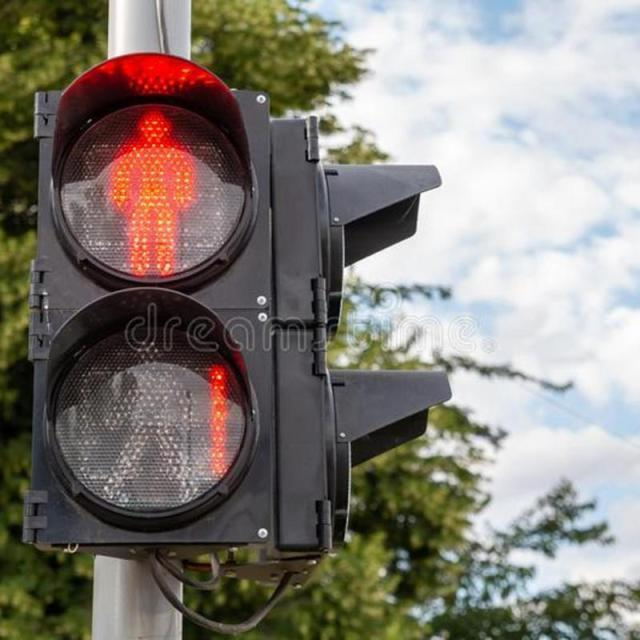red-crossing: (48, 95, 258, 282)
